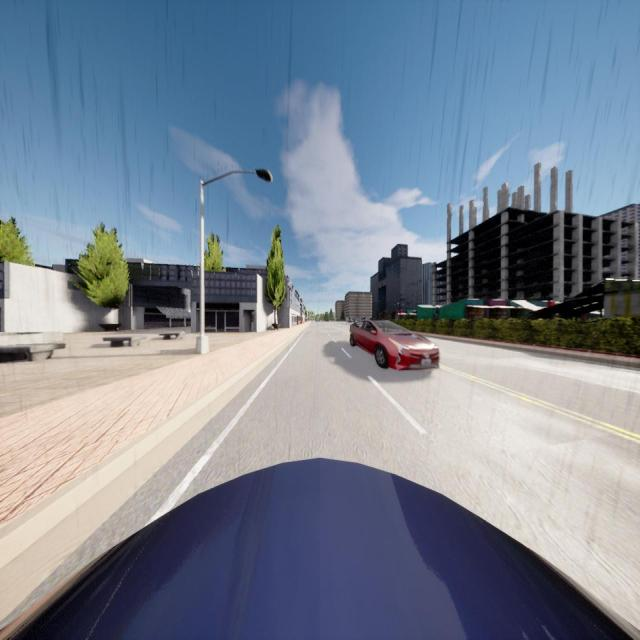Vehicle: (0, 457, 640, 640), (350, 318, 440, 369)
